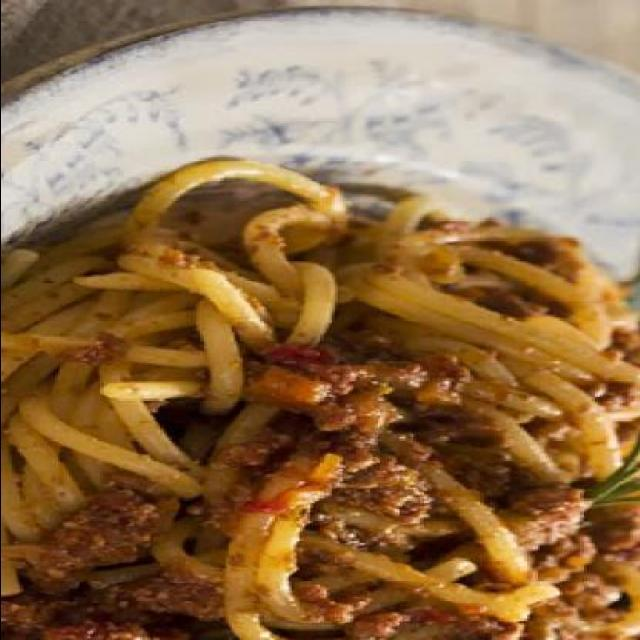Pasta al ragu: (6, 190, 632, 638)
